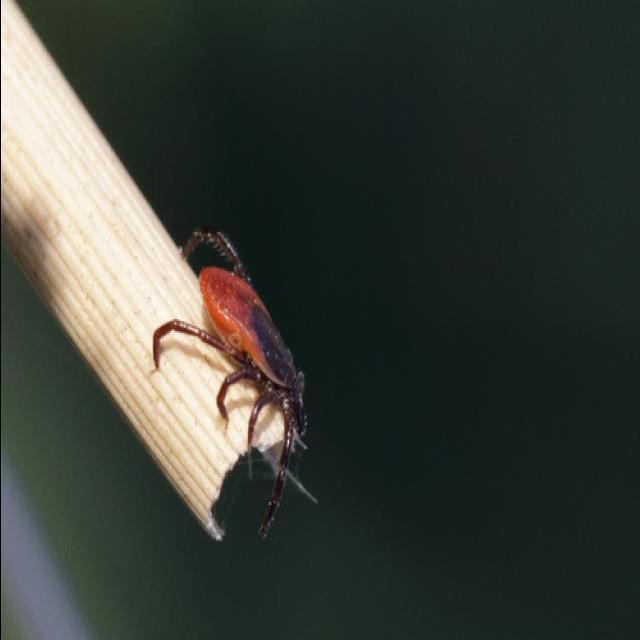Ixodes Ricinus-F: (151, 225, 305, 538)
